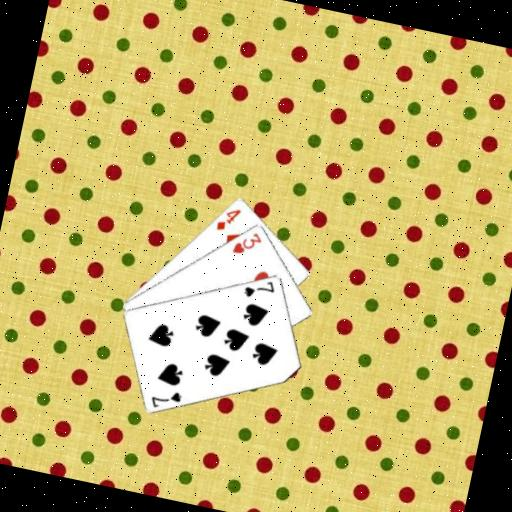3H: (229, 225, 265, 259)
4D: (211, 201, 242, 235)
7S: (240, 272, 278, 303), (146, 383, 184, 414)
